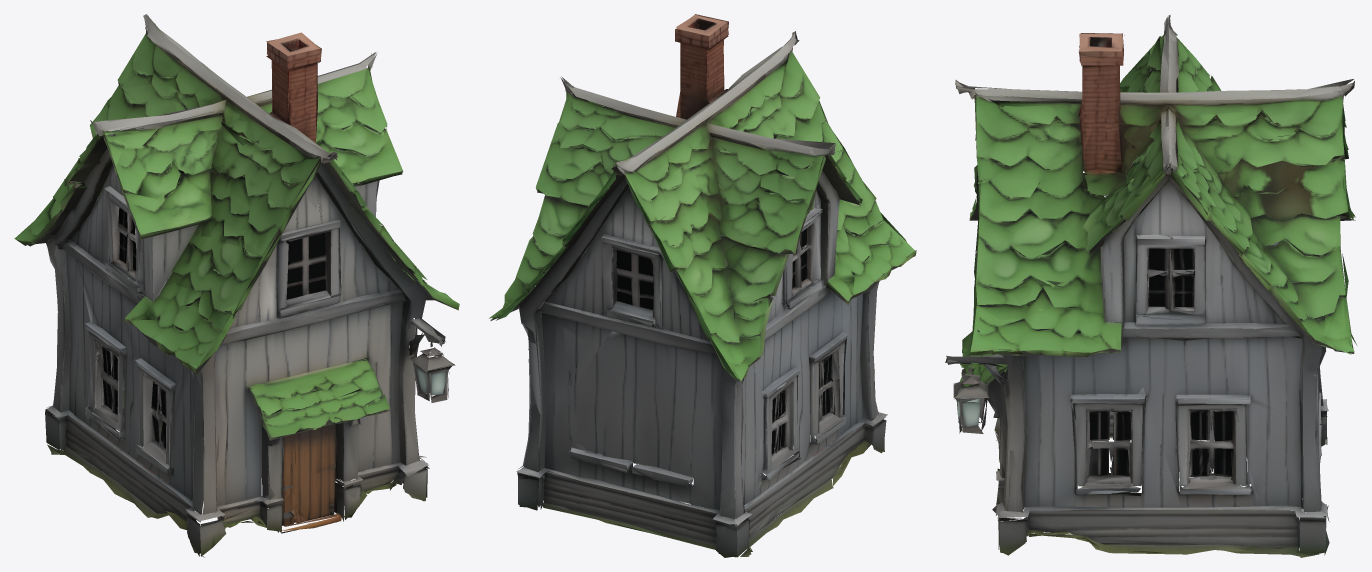
File: house_fog.glb
The picture shows the model from 3 angles, left to right: view 1: azimuth 30°, elevation 25°; view 2: azimuth 150°, elevation 25°; view 3: azimuth 270°, elevation 25°; orthographic projection. The views are drawn at different scales.
Parts seen in each view (by area): view 1: Mesh_0; view 2: Mesh_0; view 3: Mesh_0.
Part boxes in pixels (<box>): Mesh_0: <box>14,14,459,557</box>; Mesh_0: <box>489,14,916,557</box>; Mesh_0: <box>945,15,1356,557</box>.
Size of the model in its own units: 6.77 by 10.04 by 7.94.
1 material, 1 textured.
